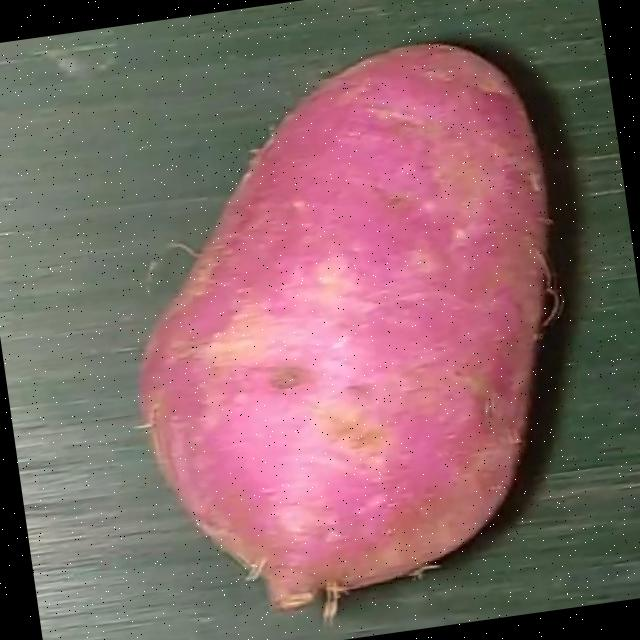Sweet Potato: (135, 37, 546, 625)
